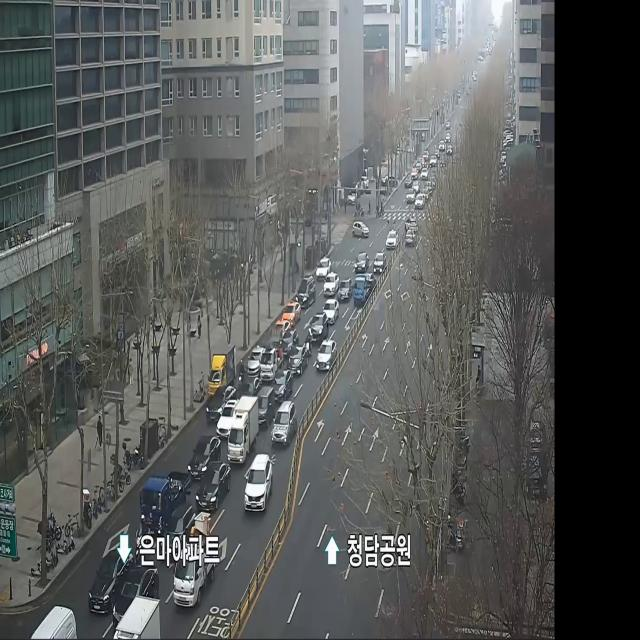motorcycle: (242, 451, 272, 526)
truck: (225, 393, 261, 466), (204, 341, 239, 403)
